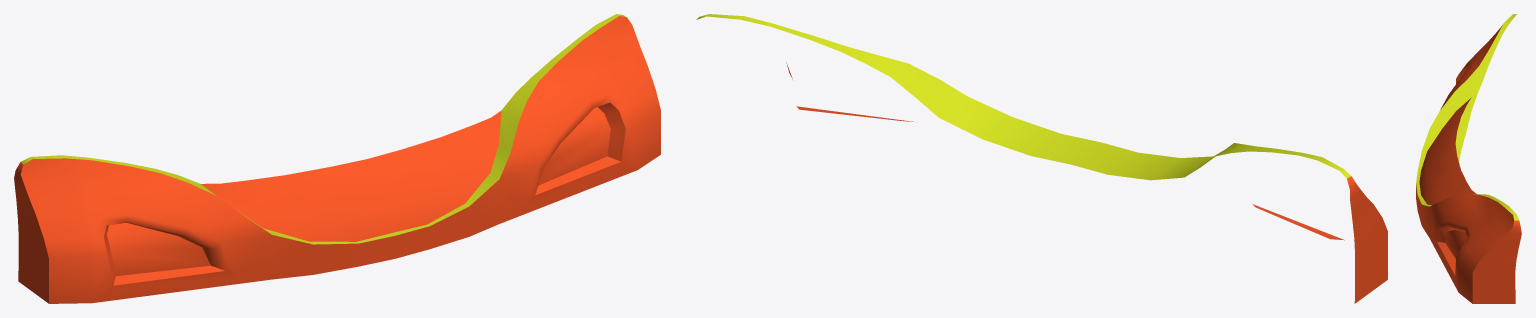
Rendered from LuxBumper01R03.gltf.
3 views of the same model, side by side, from view 1: azimuth 30°, elevation 25°; view 2: azimuth 150°, elevation 25°; view 3: azimuth 270°, elevation 25° (orthographic). The views are drawn at different scales.
Parts seen in each view (by area): view 1: LuxBumper01R03; view 2: LuxBumper01R03; view 3: LuxBumper01R03.
Part boxes in pixels (bbox=[...]): LuxBumper01R03: bbox=[14, 14, 660, 303]; LuxBumper01R03: bbox=[696, 14, 1387, 303]; LuxBumper01R03: bbox=[1416, 14, 1521, 303].
Bounding box in the file's own units: 0.1738 × 0.0328 × 0.0371.
Materials: 1 (1 with a texture image).
